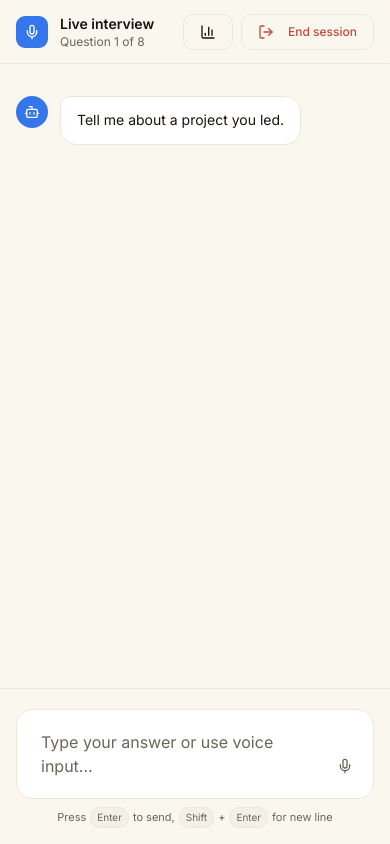
Test: ChatInterviewSession › opens session progress as a sheet for small screens
The width and height of the screenshot is (390, 844).
Expected: the text "Tell me about a project you led." is shown, [77,109,284,132]
Click the button named "Show progress" at (208, 32), box [183,14,233,50]
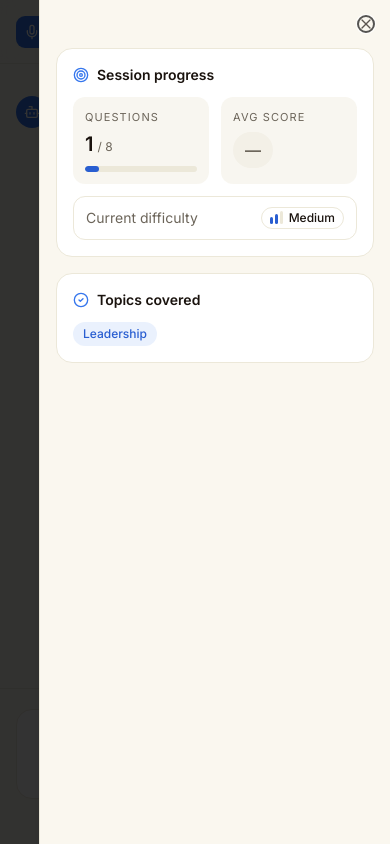
Now the text "leadership" is shown, box [73,322,157,346]
